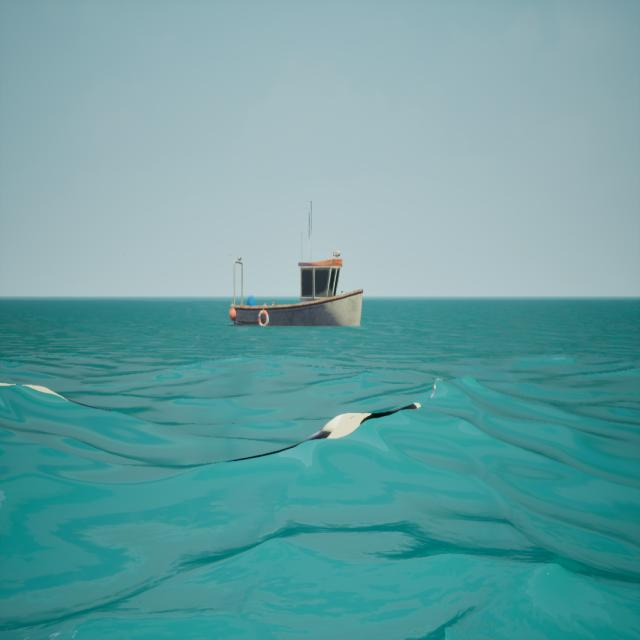ship: (224, 188, 368, 334)
